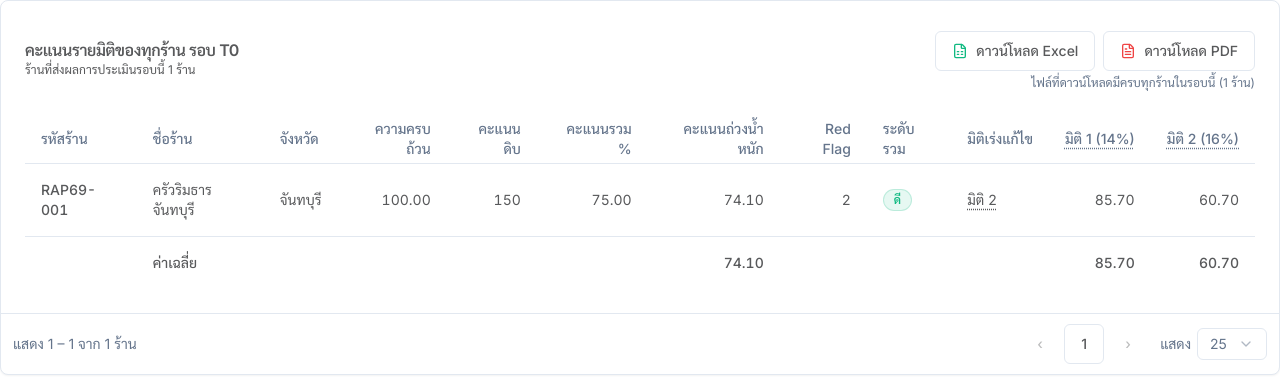
RoundMatrixPanel › names the dimension to fix first by number, with the full name in a tooltip
Hover over the button "มิติ 2" at point(982, 200), box [967,190,997,210]
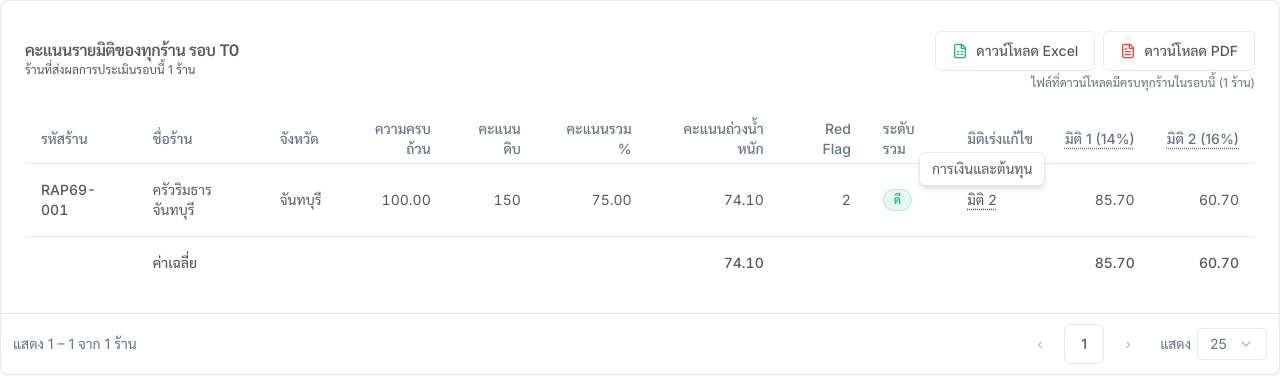
Expected: the tooltip "การเงินและต้นทุน" is shown, [919,152,1046,186]
